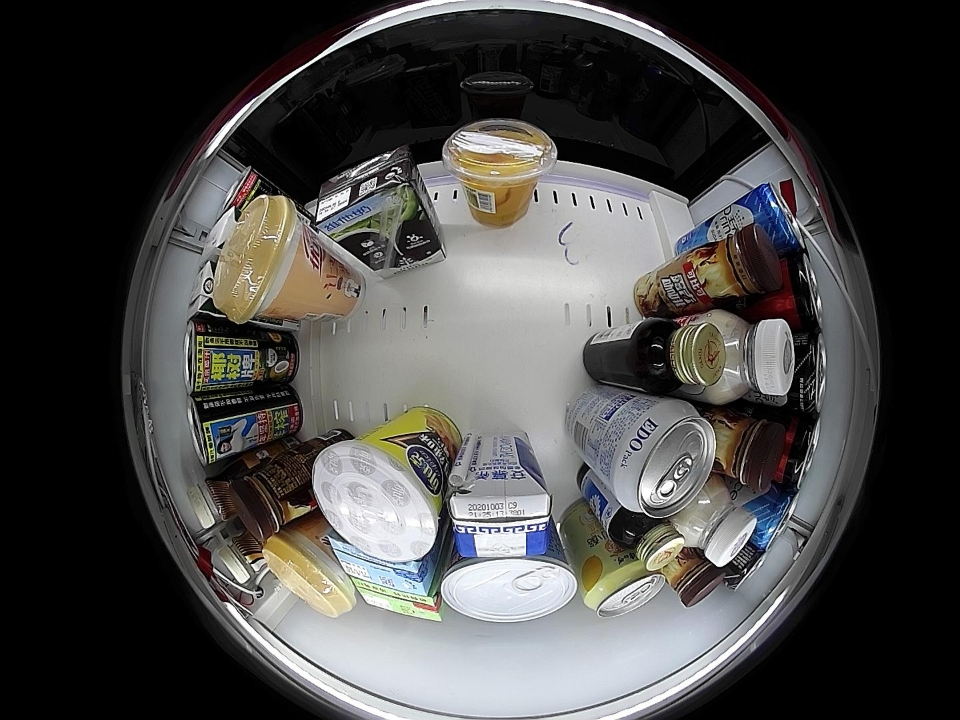anmuxi: (447, 474, 555, 558)
haitai: (440, 551, 579, 624)
jindian: (187, 260, 224, 323), (202, 207, 236, 266)
kafei: (187, 467, 249, 530), (216, 529, 272, 589)
kebike: (311, 433, 443, 562)
libaojian: (633, 316, 725, 392), (611, 508, 686, 570)
lingdukele: (776, 254, 824, 331), (774, 414, 821, 491)
lujikafei: (699, 223, 784, 305), (710, 409, 785, 491), (235, 460, 301, 540), (663, 550, 722, 608)
mangguoxiaolao: (582, 555, 666, 619)
qingdaowangzi-1: (785, 331, 827, 415), (723, 544, 771, 593)
qingdaowangzi-2: (745, 180, 808, 257), (744, 486, 800, 551)
rusuanjunqishui: (607, 397, 717, 518)
wanglaoji: (353, 581, 443, 622)
weitanai2: (314, 146, 418, 237)
weitanaiditang: (330, 540, 434, 598)
weiweidounai: (705, 312, 796, 405), (676, 482, 757, 569)
xianguolao: (442, 120, 559, 192)
yezhi: (187, 394, 233, 466), (185, 320, 226, 395), (219, 167, 270, 219)
youlemei: (213, 193, 314, 324), (262, 526, 356, 619)
